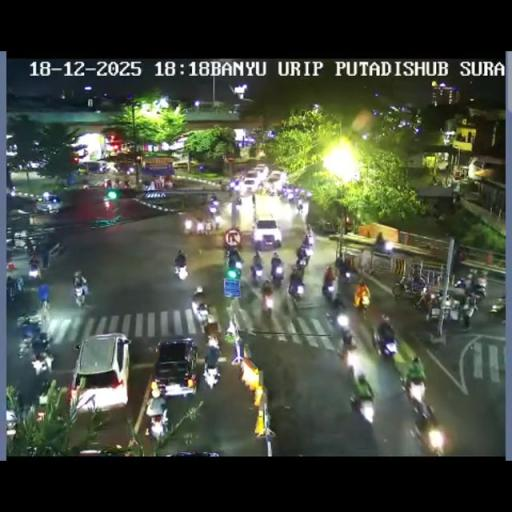Car: (70, 332, 130, 413), (150, 337, 200, 399), (252, 218, 282, 248), (72, 442, 130, 454), (36, 193, 62, 213), (80, 160, 108, 174), (242, 175, 262, 193), (267, 170, 284, 186), (171, 159, 192, 170), (254, 164, 270, 178)
Motorcycle: (248, 242, 314, 308), (410, 402, 444, 452), (425, 291, 458, 324), (392, 274, 430, 302), (349, 387, 374, 422), (462, 274, 488, 302), (373, 330, 398, 358), (30, 346, 54, 375), (338, 334, 358, 366), (406, 374, 426, 403), (202, 358, 220, 389), (19, 317, 41, 340), (203, 317, 221, 345), (17, 335, 36, 361), (328, 291, 346, 317), (148, 413, 166, 439), (47, 240, 67, 261), (73, 282, 89, 308), (354, 290, 370, 316), (488, 293, 506, 316), (222, 247, 241, 268), (194, 302, 210, 326), (260, 289, 274, 316), (373, 238, 394, 256), (322, 268, 336, 294), (288, 281, 304, 303), (270, 264, 284, 289), (38, 384, 52, 409), (174, 250, 187, 276), (250, 262, 264, 286), (338, 264, 354, 284), (459, 306, 472, 330), (38, 282, 50, 307), (28, 259, 42, 280), (295, 254, 308, 274), (192, 288, 206, 305), (336, 312, 350, 329), (25, 237, 37, 256), (6, 282, 16, 304), (454, 275, 468, 289), (207, 200, 220, 215), (203, 218, 213, 236), (305, 232, 315, 250), (183, 216, 193, 234), (195, 218, 205, 234), (230, 180, 241, 194), (280, 186, 290, 201), (212, 214, 221, 230), (266, 184, 278, 196), (15, 276, 24, 292), (221, 179, 232, 192), (295, 200, 303, 214), (287, 194, 296, 206), (304, 190, 312, 202), (103, 198, 111, 210), (123, 179, 131, 189), (236, 196, 242, 206), (106, 179, 112, 189), (10, 186, 16, 196), (113, 179, 119, 188), (82, 182, 88, 190)
